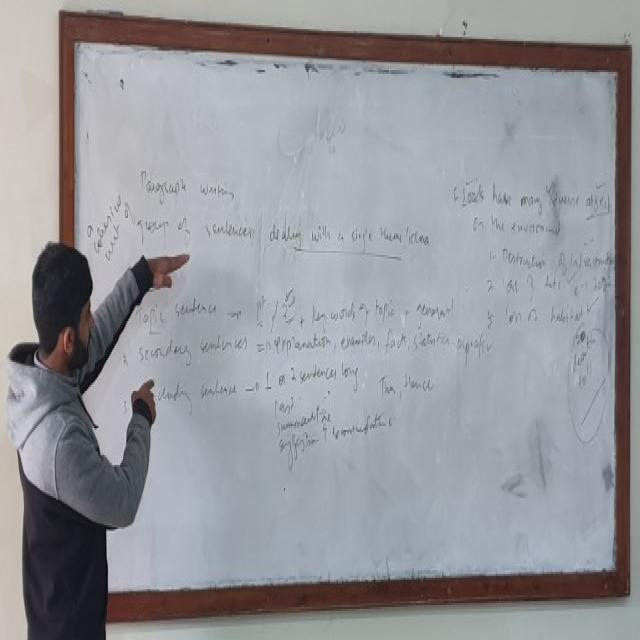Instructor: (18, 225, 120, 640)
White-board: (64, 23, 625, 610)
